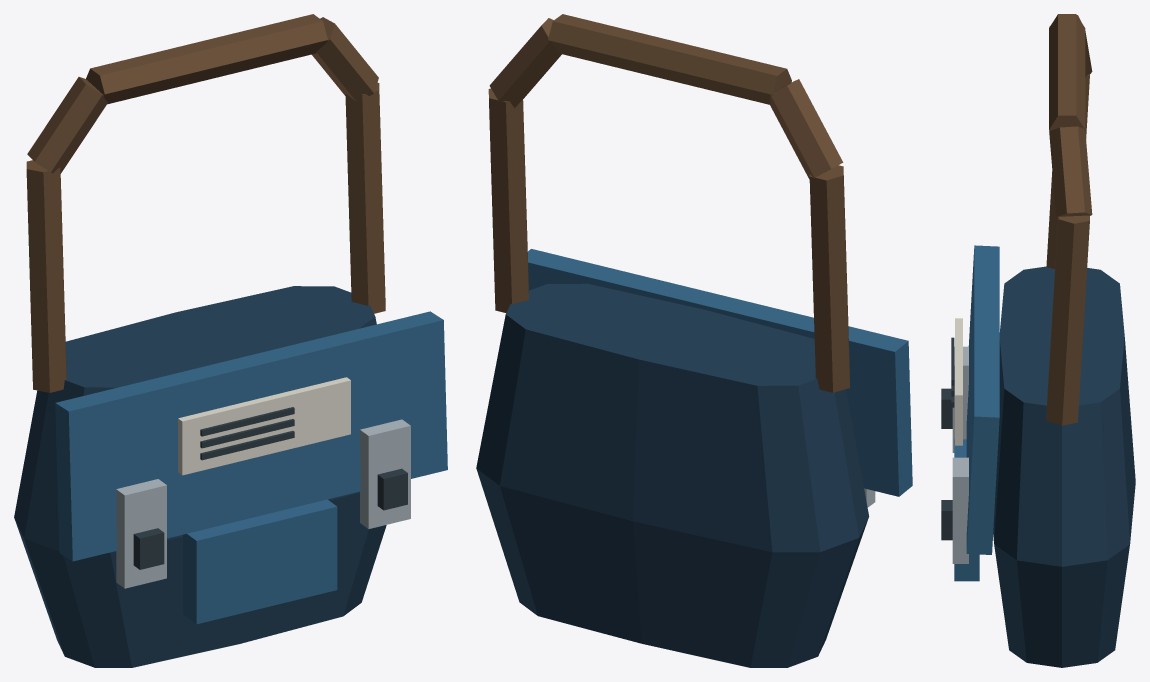
The model's file is b14_postal_carrier_satchel.glb.
The picture shows the model from 3 angles, left to right: view 1: azimuth 30°, elevation 25°; view 2: azimuth 150°, elevation 25°; view 3: azimuth 270°, elevation 25°; orthographic projection. The views are drawn at different scales.
Visible parts, largest first — view 1: b14_postal_carrier_satchel; view 2: b14_postal_carrier_satchel; view 3: b14_postal_carrier_satchel.
Part boxes in pixels (box(x1,y1,x2,y2)): b14_postal_carrier_satchel: box(14, 14, 447, 667); b14_postal_carrier_satchel: box(476, 14, 912, 667); b14_postal_carrier_satchel: box(941, 14, 1135, 667).
Size of the model in its own units: 0.4 by 0.5856 by 0.1923.
